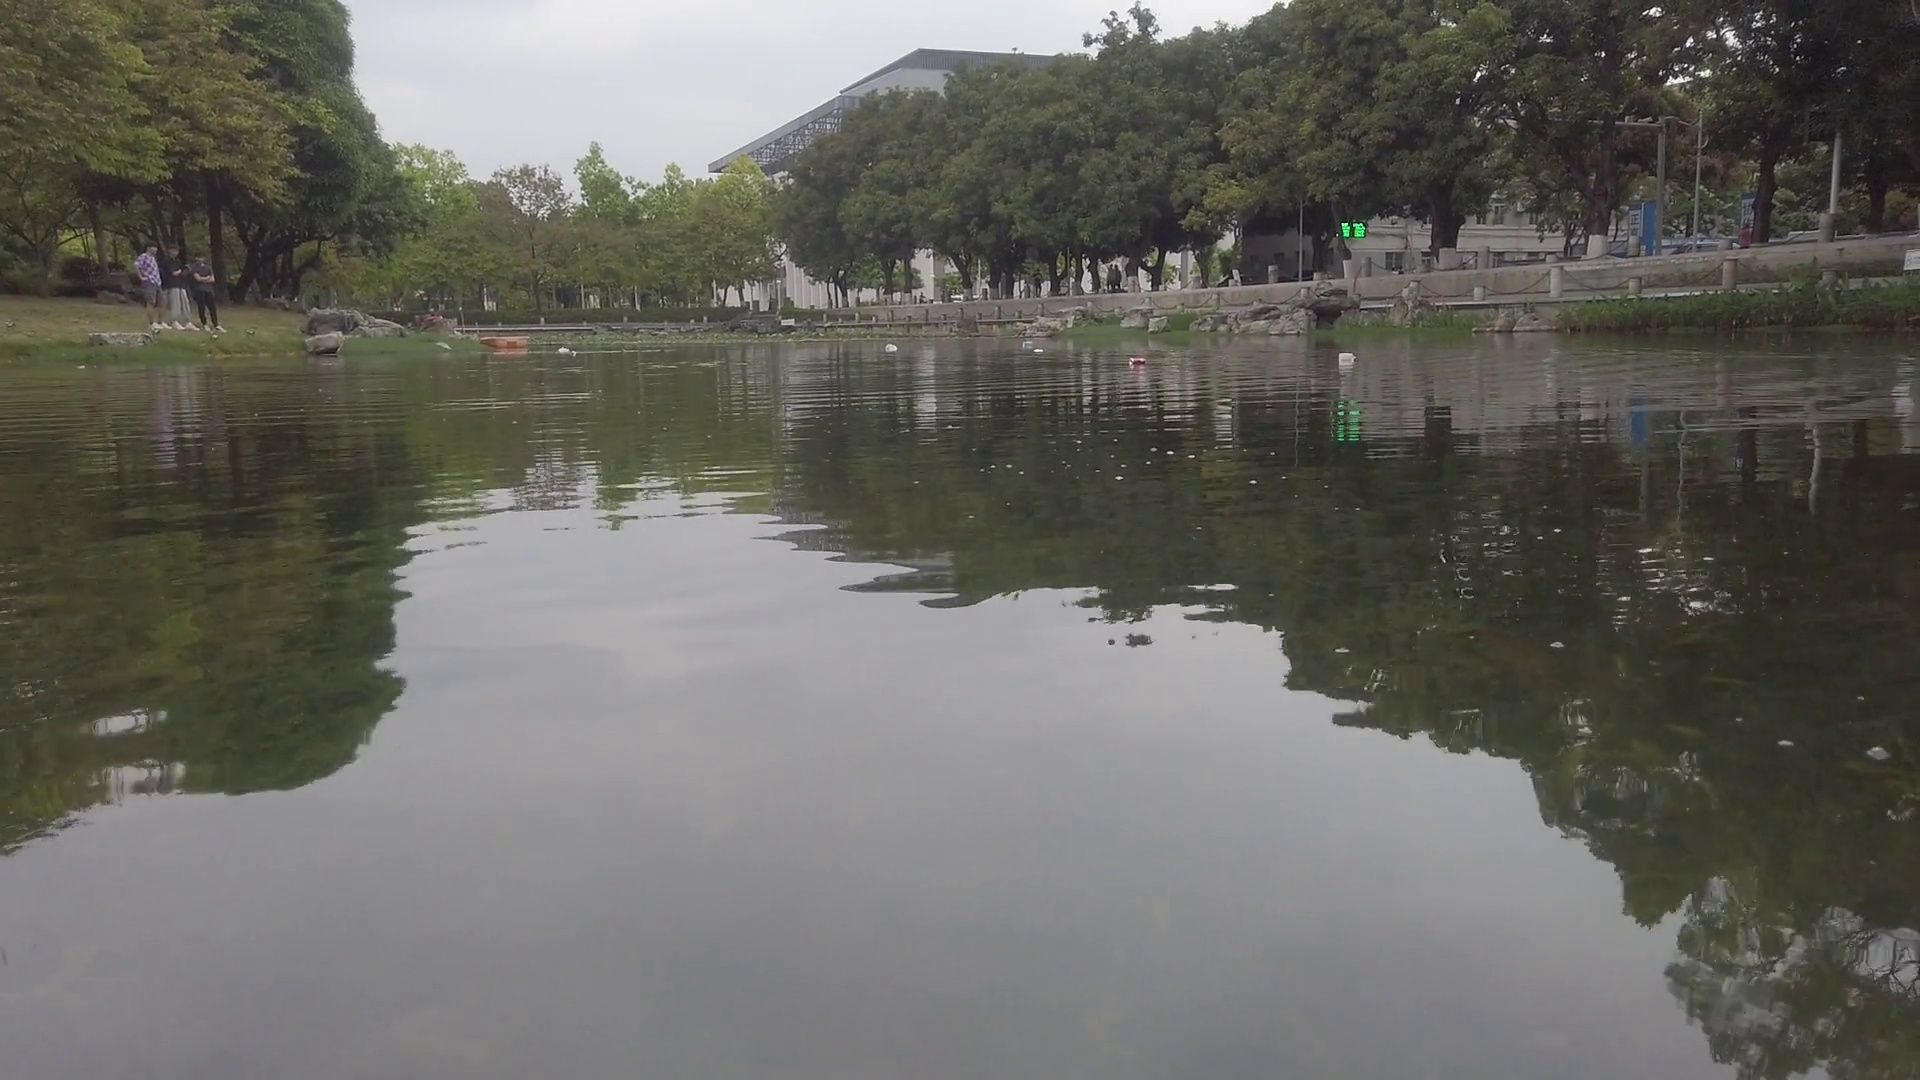bottle: (1129, 357, 1149, 367)
carton: (1338, 352, 1356, 363), (1022, 342, 1033, 347)
paper: (1034, 349, 1043, 352)
plastic: (885, 342, 895, 353), (558, 345, 571, 353)
